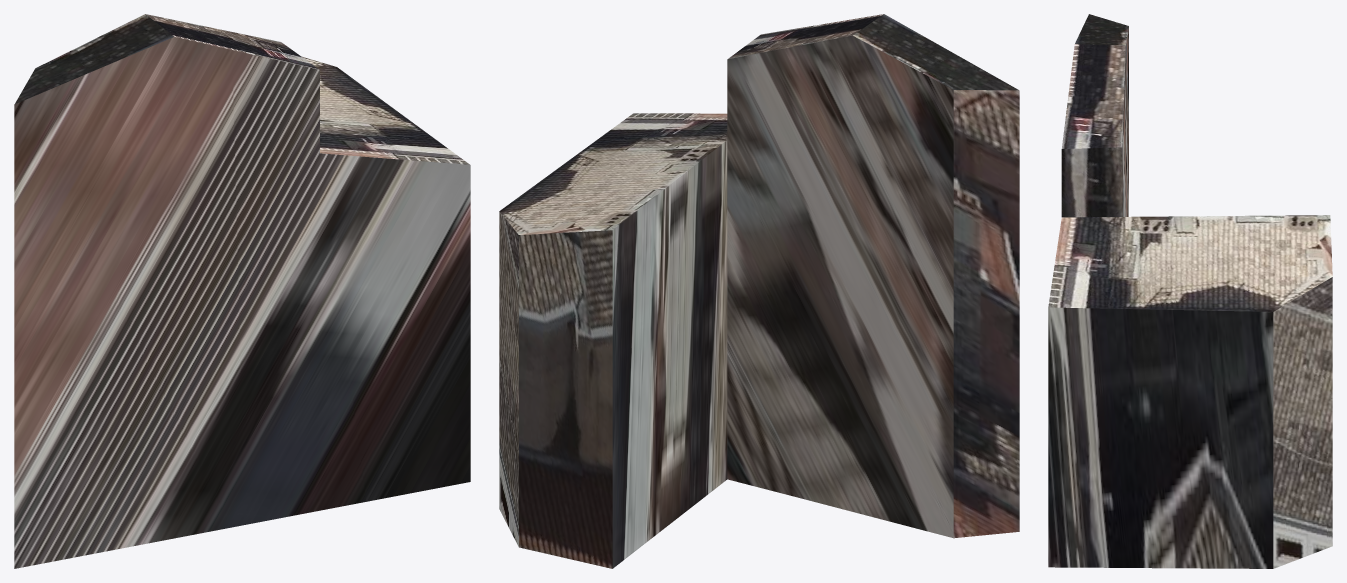
3 views of the same model, side by side, from view 1: azimuth 30°, elevation 25°; view 2: azimuth 150°, elevation 25°; view 3: azimuth 270°, elevation 25° (orthographic). The views are drawn at different scales.
Parts seen in each view (by area): view 1: Z_UP; view 2: Z_UP; view 3: Z_UP.
Boxes of the visible parts, x1,y1,x2,y2 form: Z_UP: [14, 14, 470, 568]; Z_UP: [499, 14, 1019, 568]; Z_UP: [1048, 14, 1332, 568].
Size of the model in its own units: 17.83 by 19.65 by 12.31.
2 materials, 1 textured.
